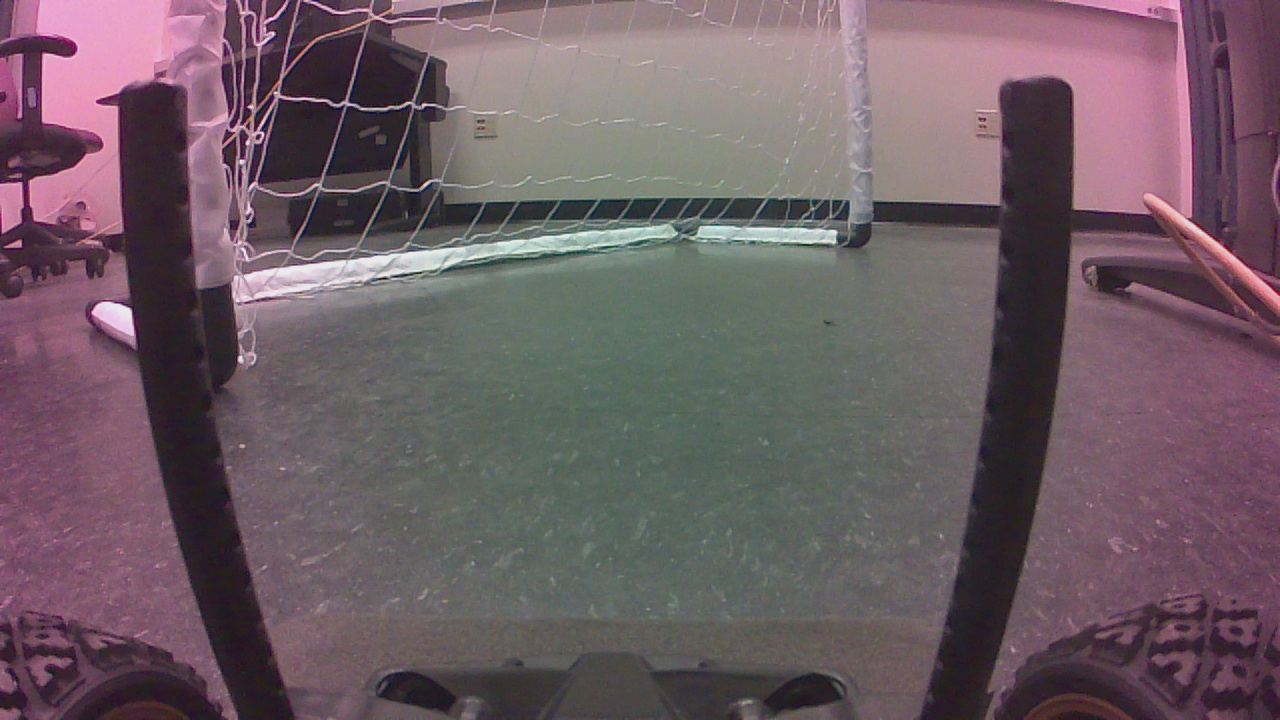goal: (79, 1, 881, 371)
